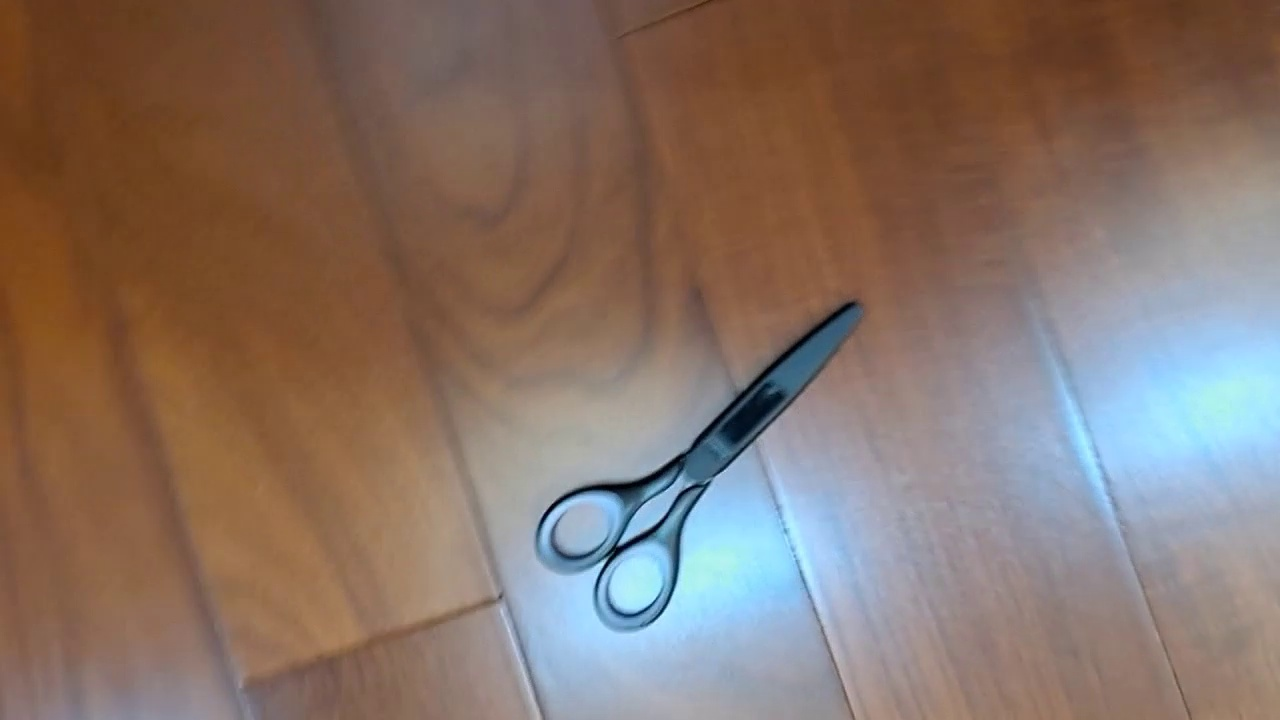scissors: (534, 297, 867, 634)
